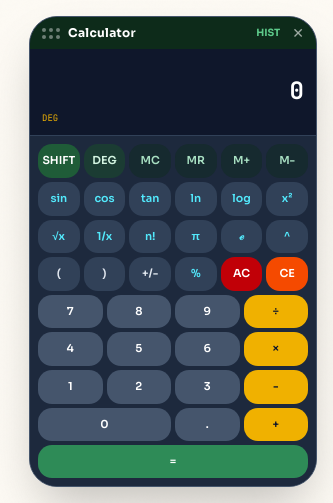
Test: CalculatorModal › basic arithmetic › adds two numbers
Step 1. Click the button "2" → [139, 387], box [106, 370, 171, 404]
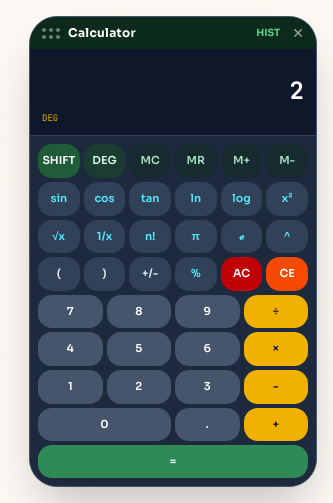
Step 2. Click the button "+" → [276, 424], box [244, 408, 308, 441]
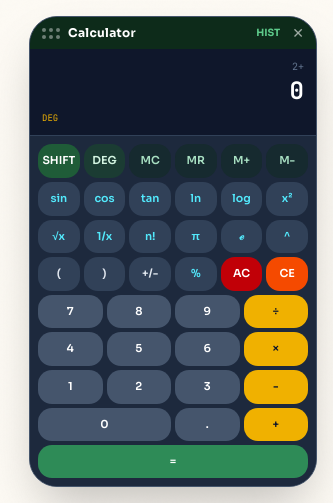
Step 3. Click the button "3" → [207, 387], box [175, 370, 240, 404]
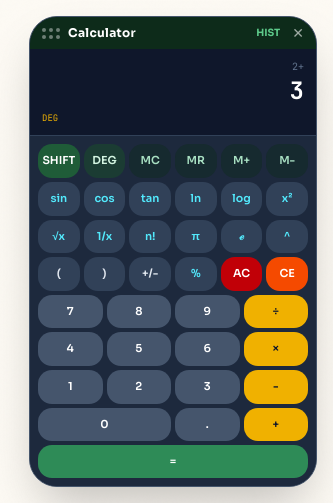
Step 4. Click the button "=" → [173, 461], box [38, 445, 308, 478]
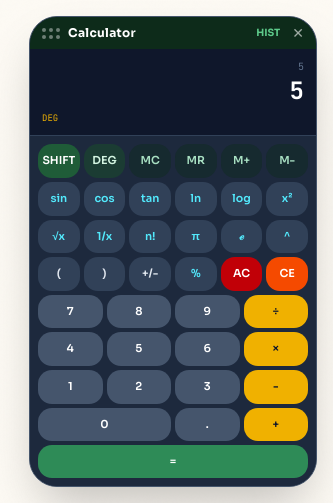
expect the 2nd text "5" is shown: met, box [290, 75, 304, 106]
